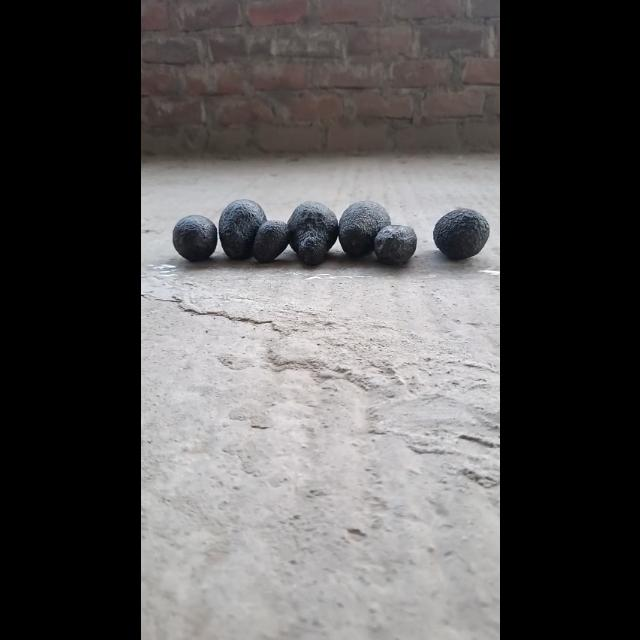Primera: (285, 202, 337, 264), (432, 207, 491, 260), (338, 200, 390, 256), (218, 198, 264, 260)
Segunda: (170, 213, 217, 260), (372, 223, 418, 265)
Tercera: (251, 220, 289, 264)
